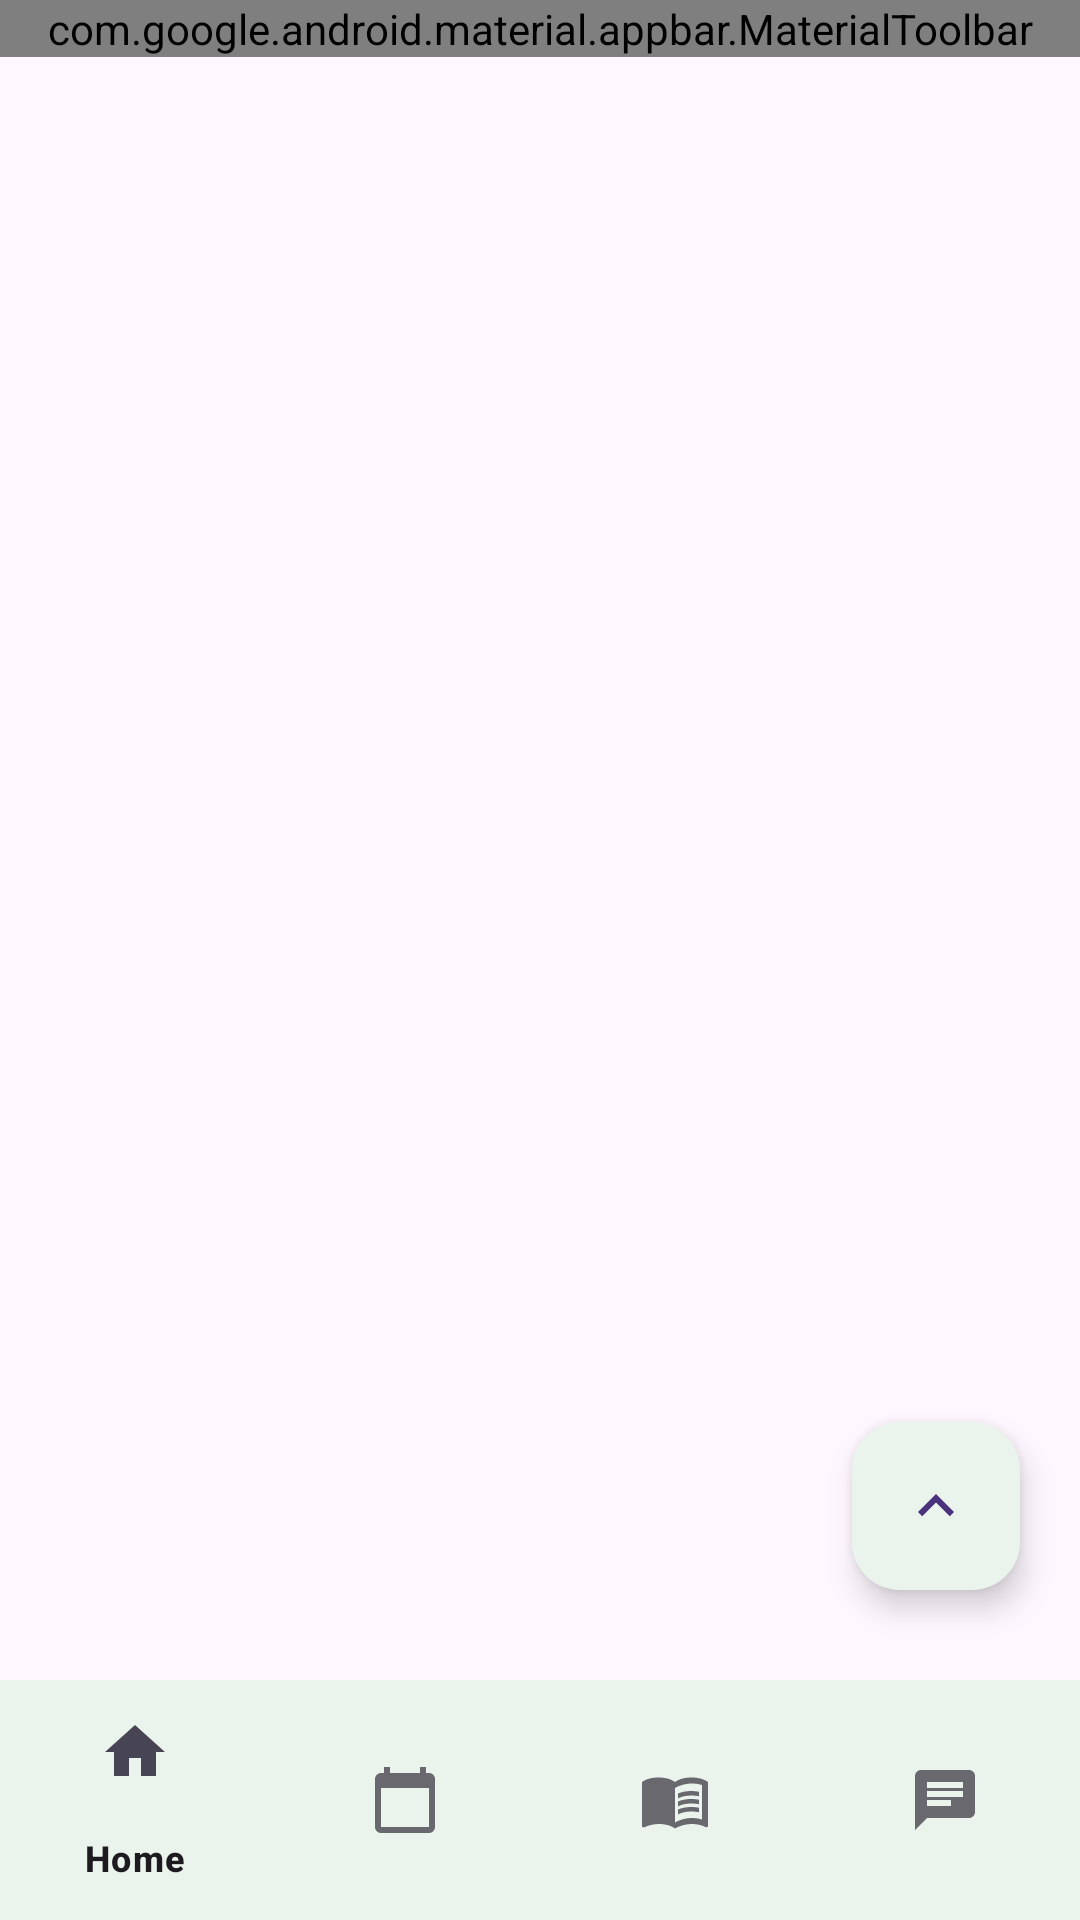

Icon bounding boxes for this 1080x1920 phone screenshot, format (x1, y1, x2, y2):
FAB up: (852, 1422, 1020, 1590)
